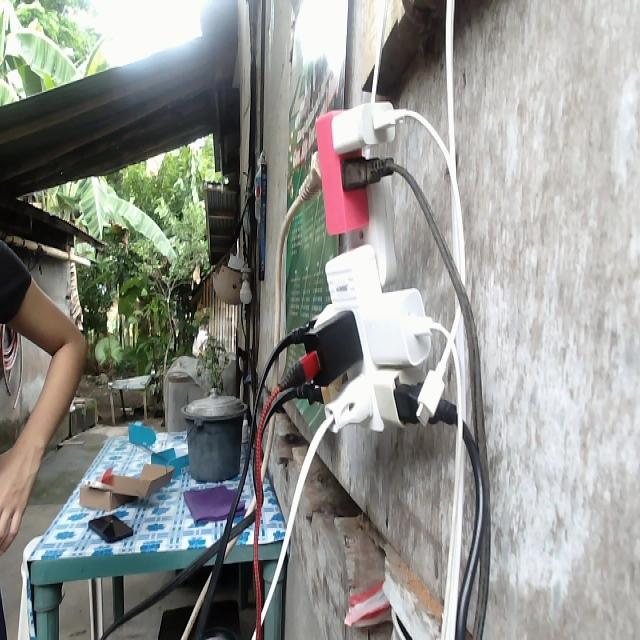-: (257, 92, 481, 467)
